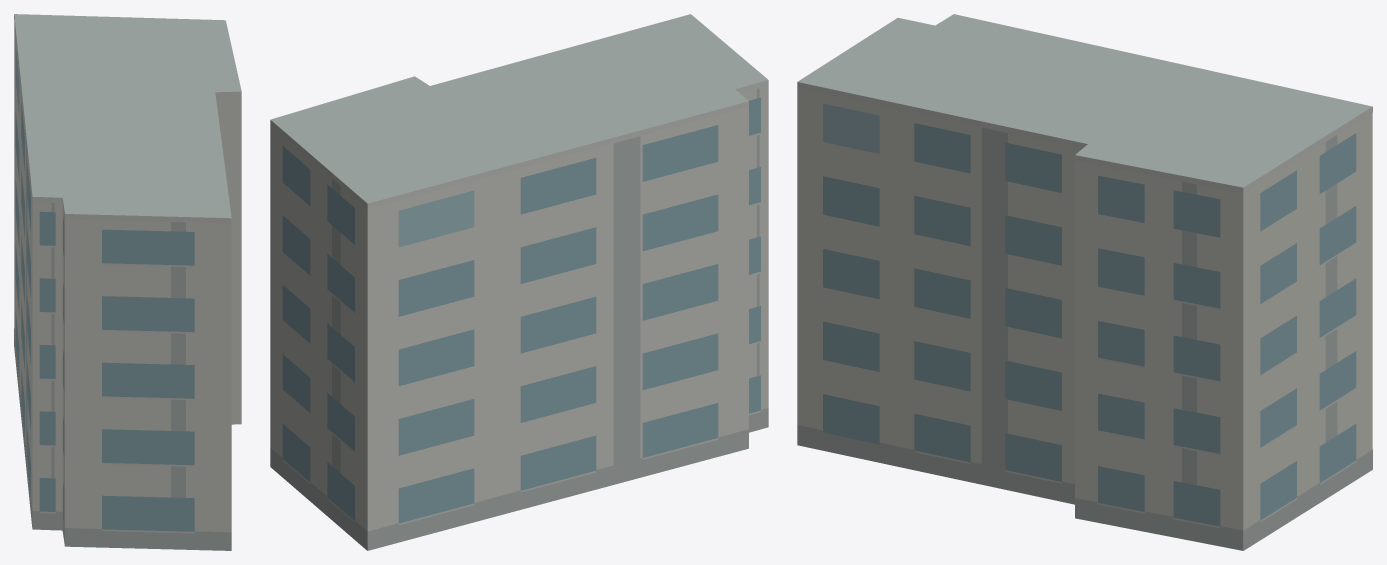
File: survey-upis-32673586.glb
3 views of the same model, side by side, from view 1: azimuth 30°, elevation 25°; view 2: azimuth 150°, elevation 25°; view 3: azimuth 270°, elevation 25° (orthographic). The views are drawn at different scales.
Visible parts, largest first — view 1: survey-upis-32673586.tmp; view 2: survey-upis-32673586.tmp; view 3: survey-upis-32673586.tmp.
Boxes of the visible parts, bbox=[...] form: survey-upis-32673586.tmp: bbox=[14, 14, 241, 550]; survey-upis-32673586.tmp: bbox=[270, 14, 768, 550]; survey-upis-32673586.tmp: bbox=[797, 14, 1372, 550].
Bounding box in the file's own units: 15.08 × 14.7 × 21.12.
